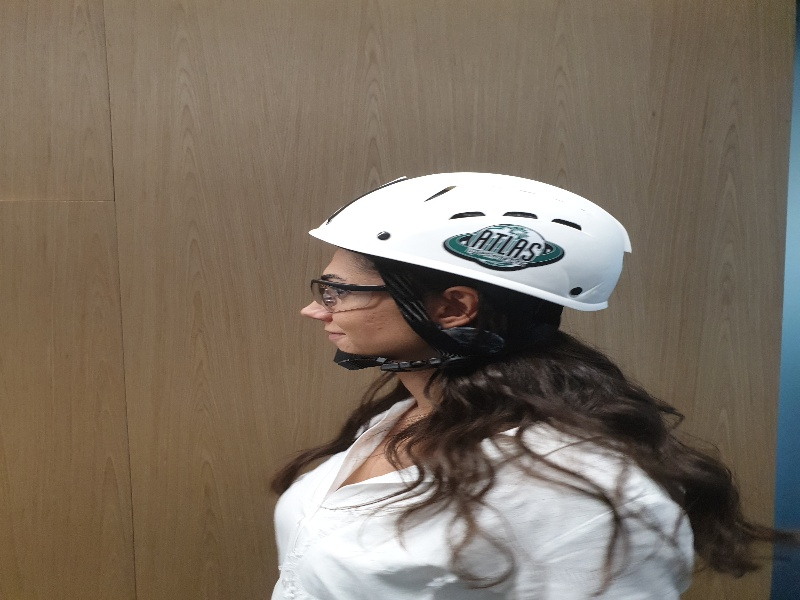Baret: (307, 170, 633, 287)
Gozluk: (310, 277, 400, 306)
